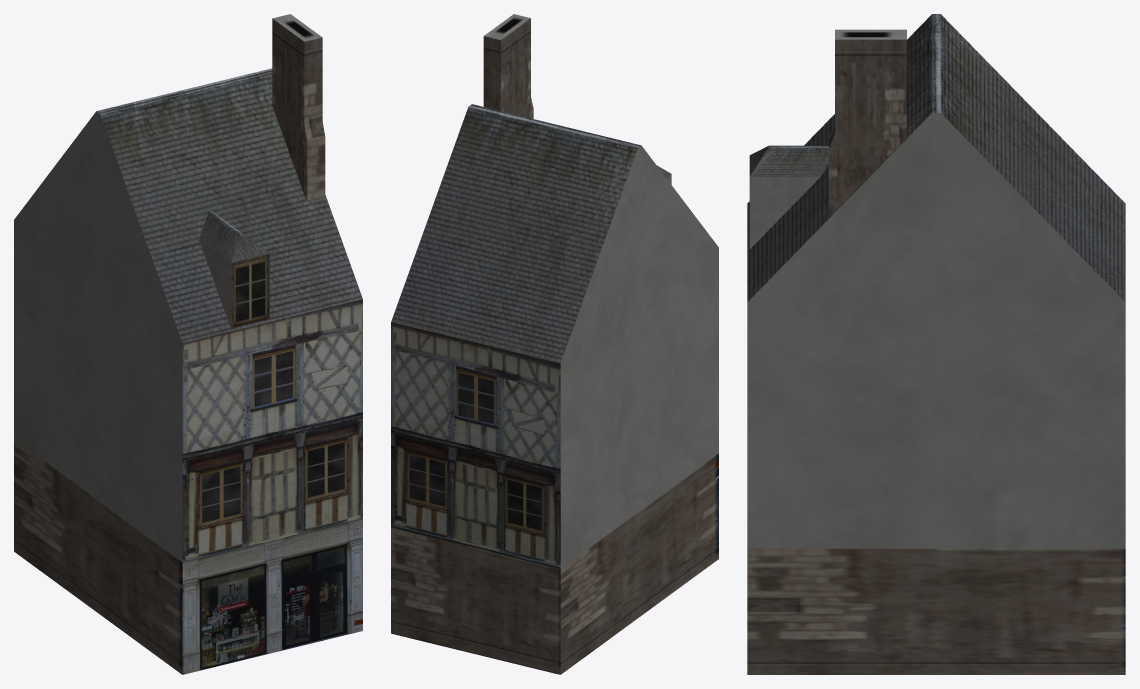
File: small_bar_02.fbx
3 renders of one model, left to right at view 1: azimuth 30°, elevation 25°; view 2: azimuth 150°, elevation 25°; view 3: azimuth 270°, elevation 25°, orthographic. The views are drawn at different scales.
Parts seen in each view (by area): view 1: small_bar_02; view 2: small_bar_02; view 3: small_bar_02.
Part boxes in pixels (x1,y1,x2,y2): small_bar_02: (14,14,362,674); small_bar_02: (391,14,718,674); small_bar_02: (747,14,1125,674).
Bounding box in the file's own units: 582 × 1742 × 942.
Materials: 1 (1 with a texture image).
